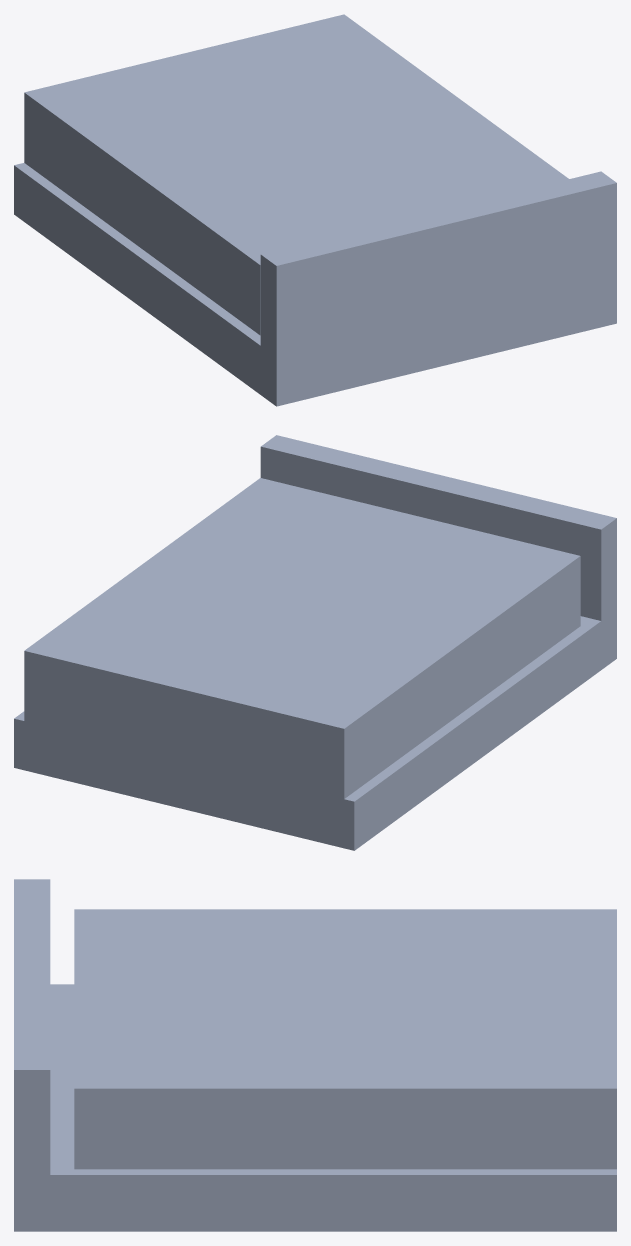
Rendered from bed-1.glb.
3 renders of one model, top to bottom at view 1: azimuth 30°, elevation 25°; view 2: azimuth 150°, elevation 25°; view 3: azimuth 270°, elevation 25°, orthographic. The views are drawn at different scales.
Visible parts, largest first — view 1: bed_bed; view 2: bed_bed; view 3: bed_bed.
Boxes of the visible parts, <box> form: bed_bed: <box>14,14,616,406</box>; bed_bed: <box>14,435,616,850</box>; bed_bed: <box>14,879,616,1231</box>.
Bounding box in the file's own units: 1.52 × 0.6 × 2.03.
